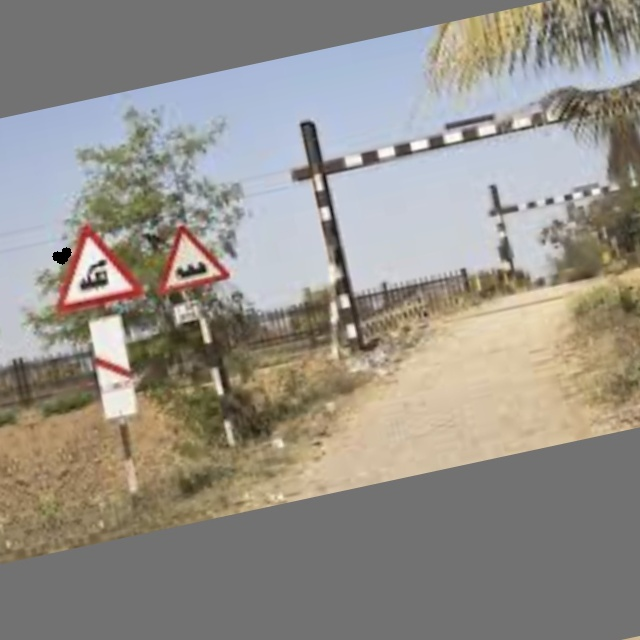Unguarded_Level_Crossing: (43, 212, 144, 322)
